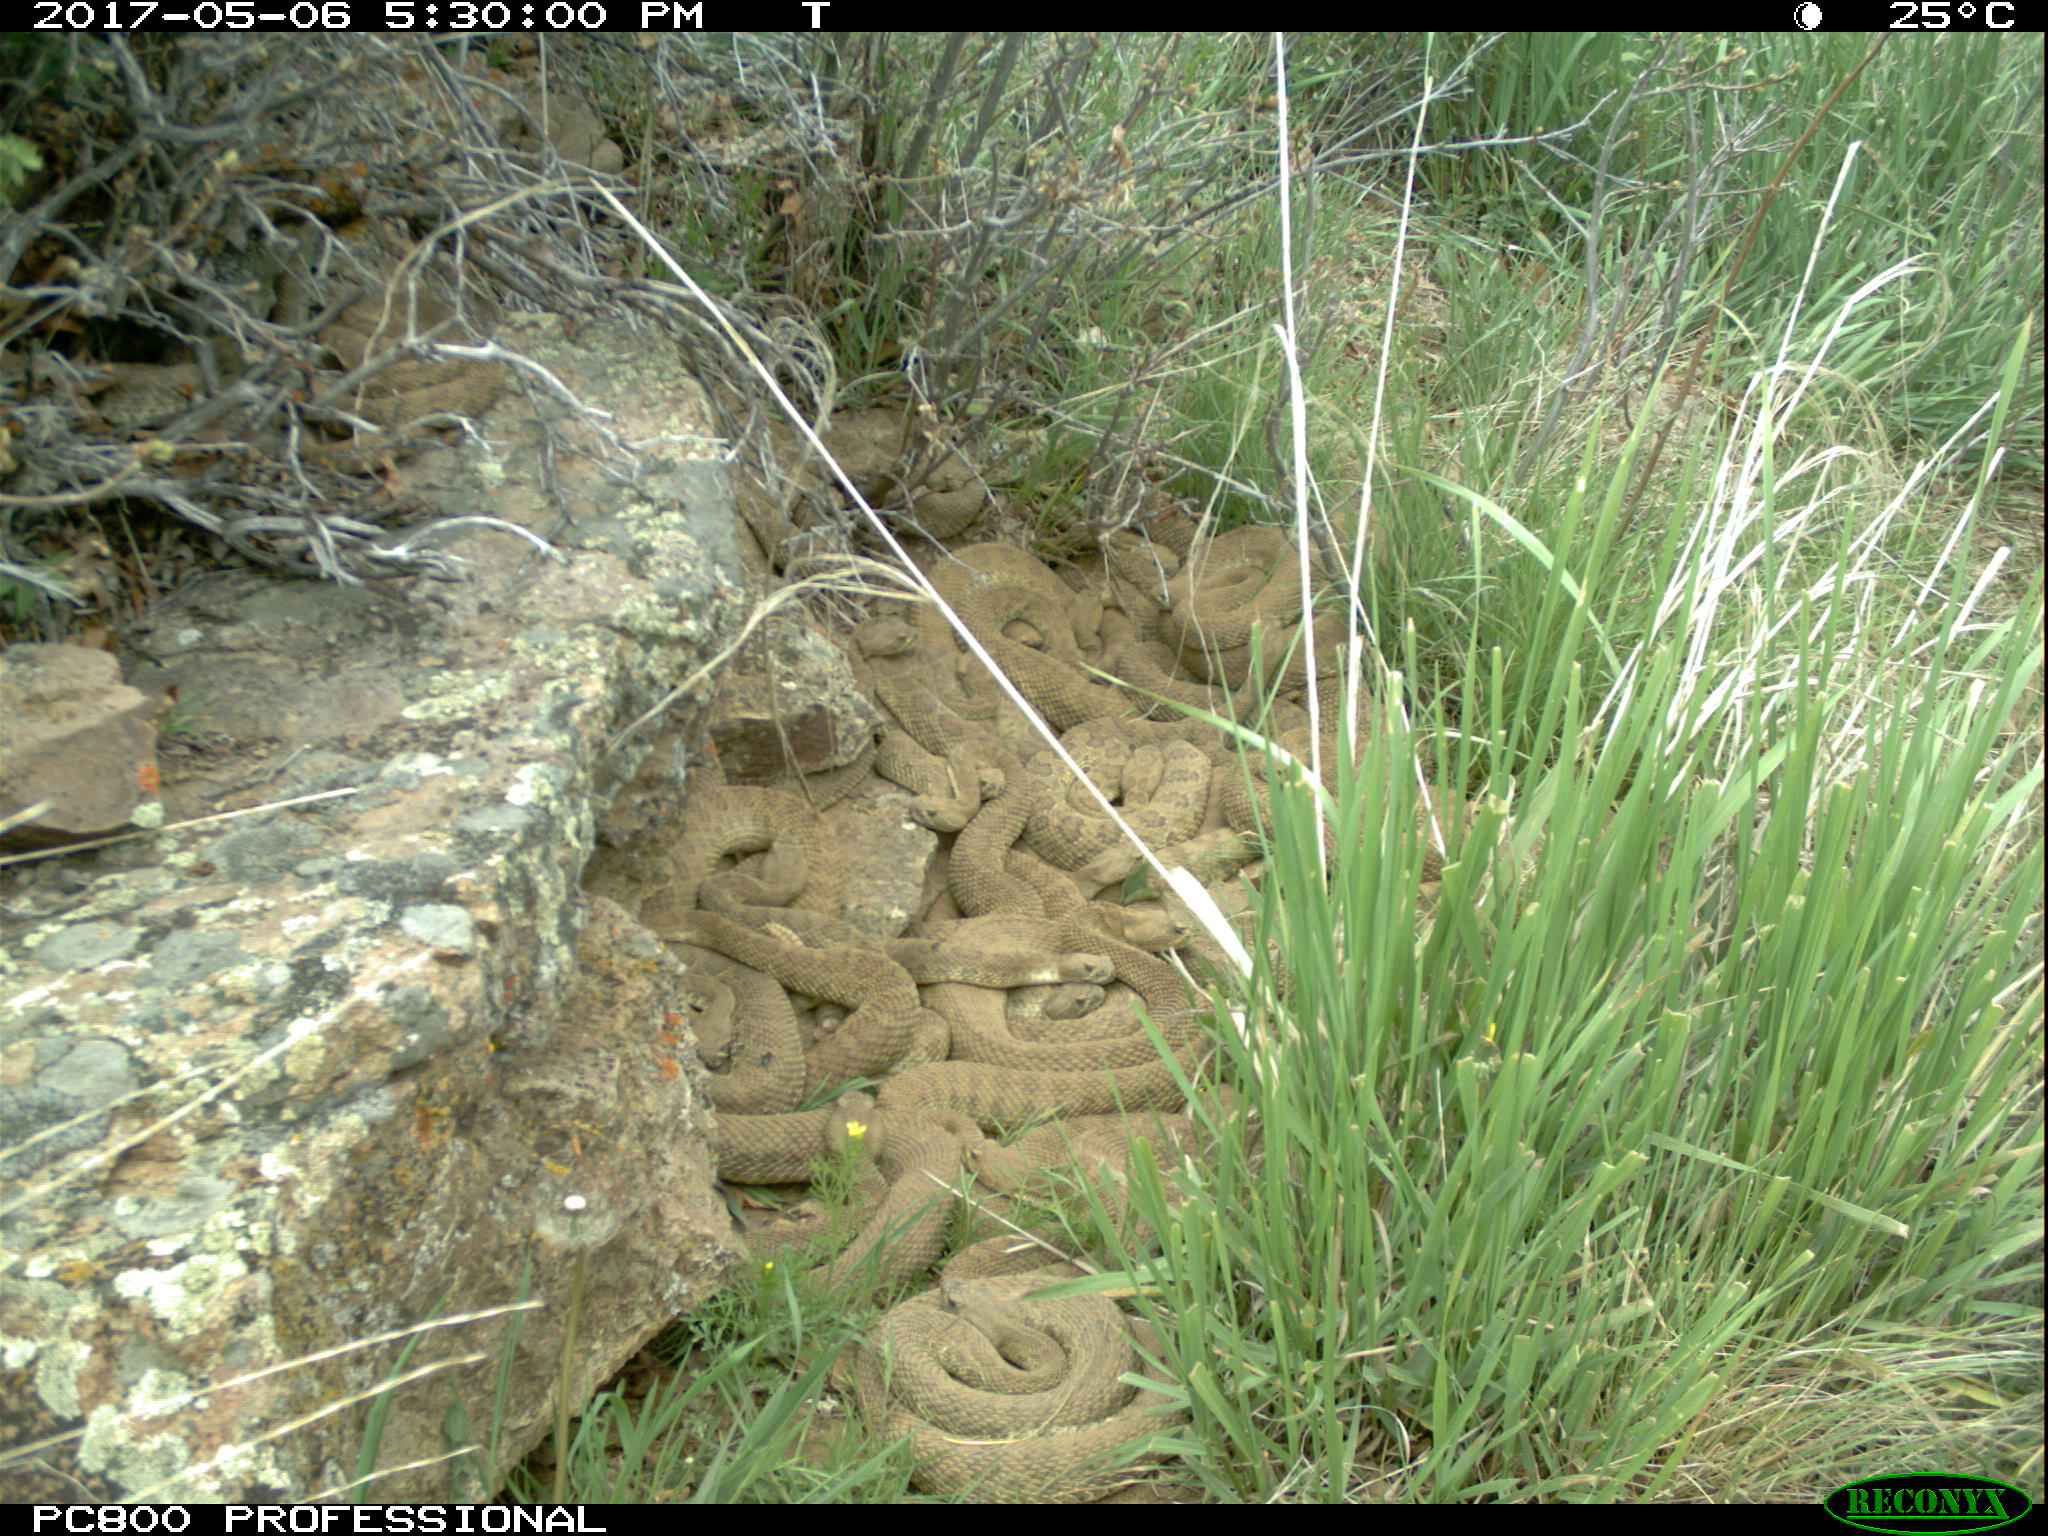snake: (648, 908, 959, 1199), (848, 1279, 1190, 1509), (930, 913, 1234, 1097), (1092, 520, 1356, 718), (848, 534, 1082, 702), (869, 720, 1059, 916), (1030, 707, 1230, 874), (297, 281, 514, 431), (1280, 724, 1485, 866), (830, 415, 1009, 549), (669, 779, 837, 918)
